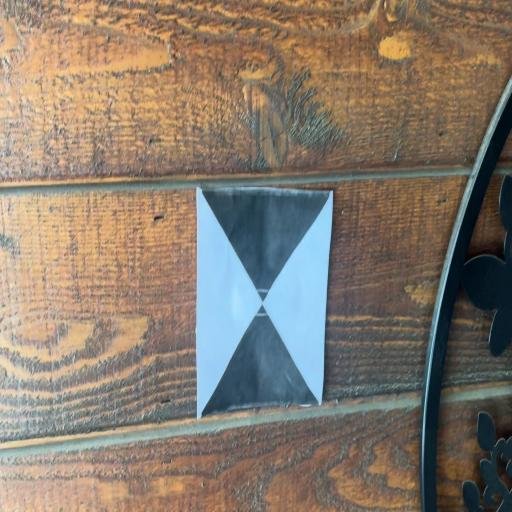target: (196, 189, 333, 417)
